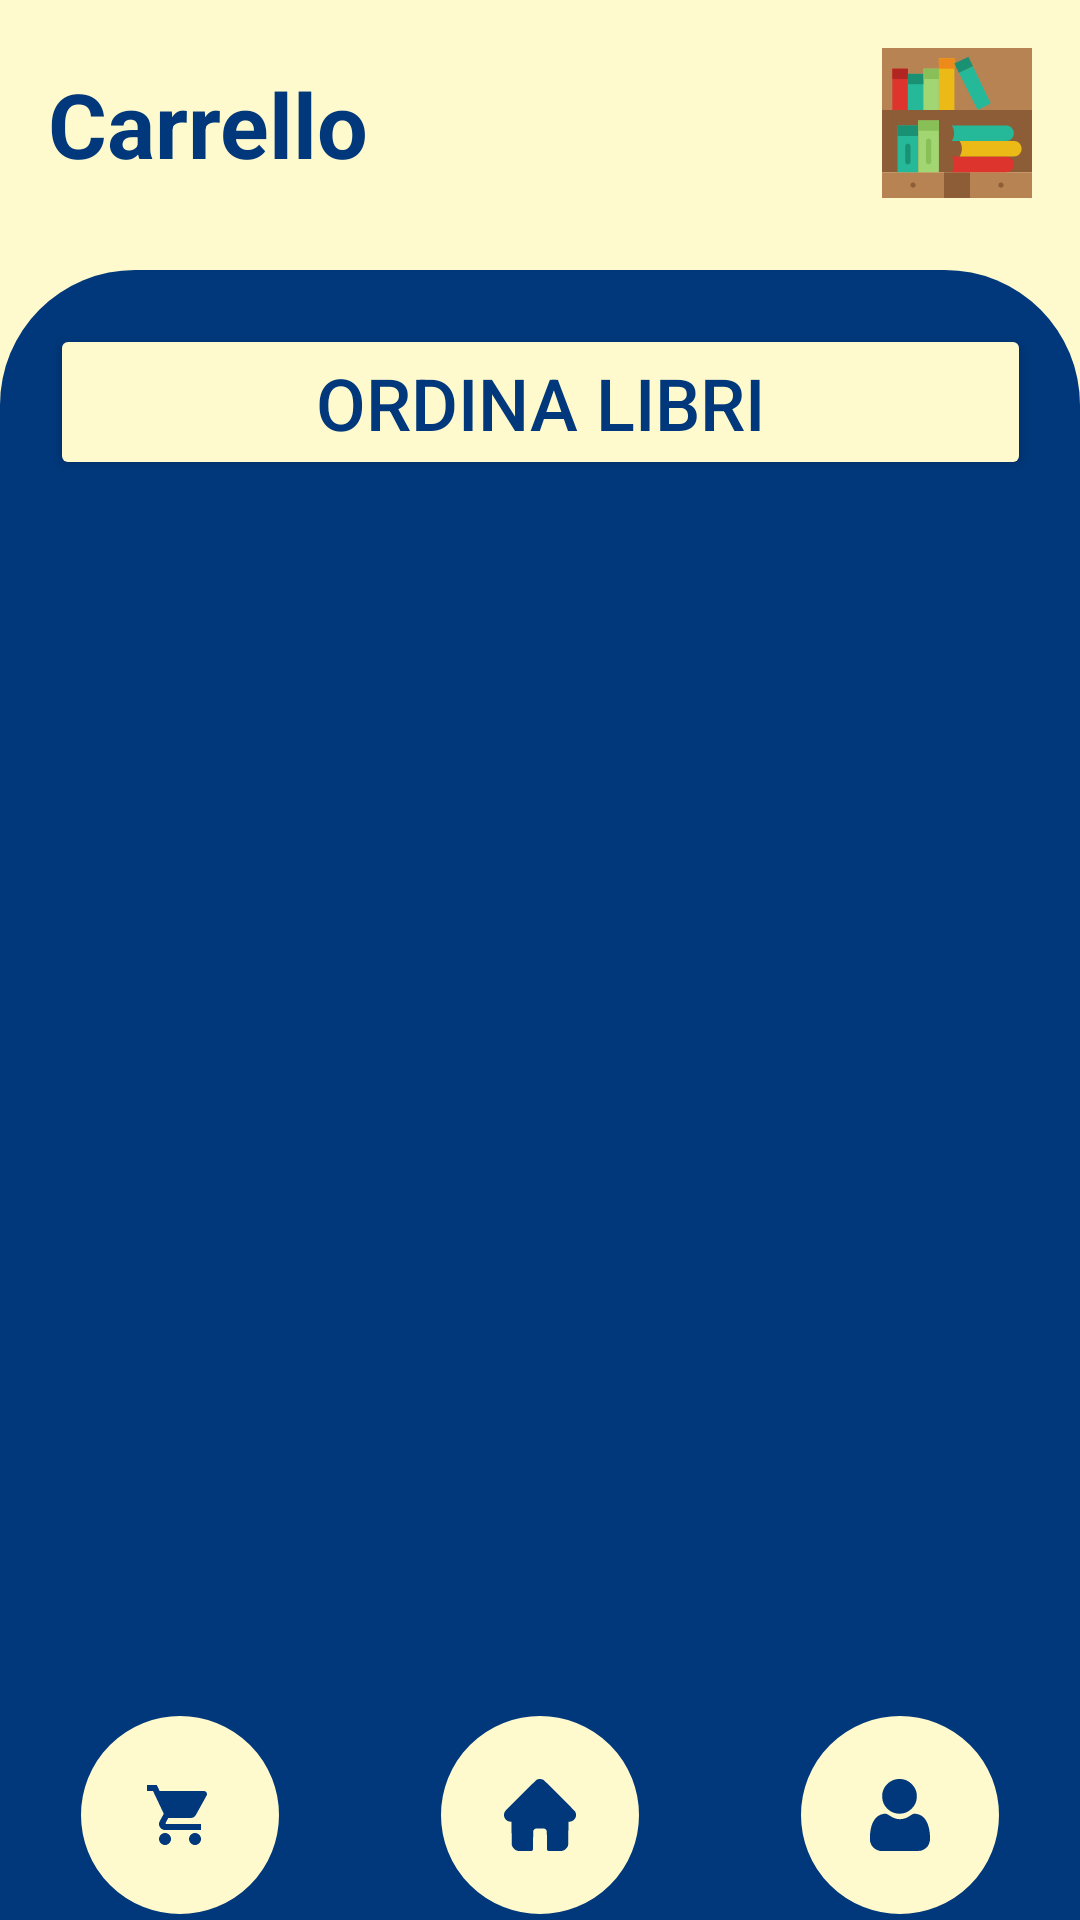

Icon bounding boxes for this 1080 × 1920 phone screenshot, format (left=x1, top=y1, right=x2, bottom=y2):
account: (left=870, top=1779, right=930, bottom=1851)
cart: (left=147, top=1785, right=207, bottom=1845)
home: (left=504, top=1779, right=576, bottom=1851)
